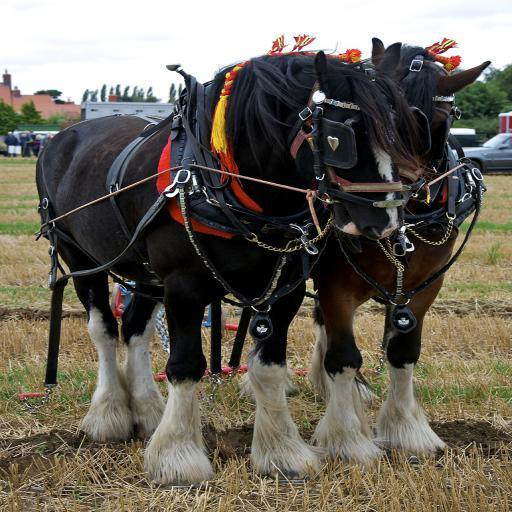horse: (33, 39, 424, 482), (234, 34, 492, 466)
